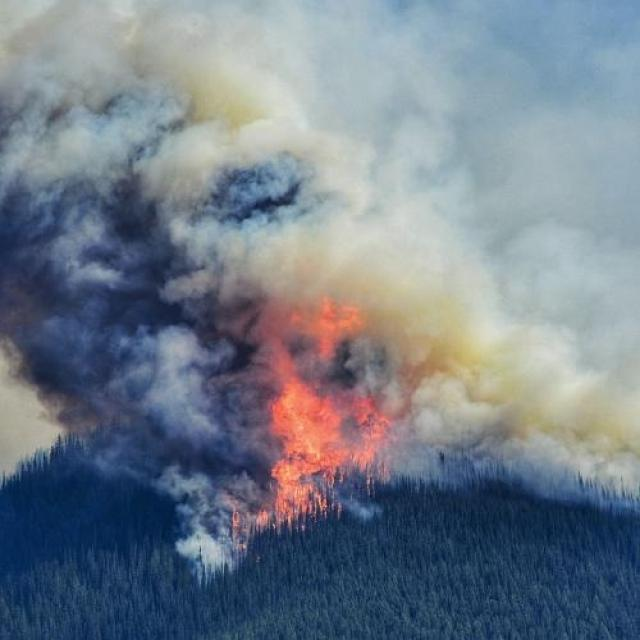Fire: (229, 294, 389, 530)
Smoke: (1, 1, 640, 589)
